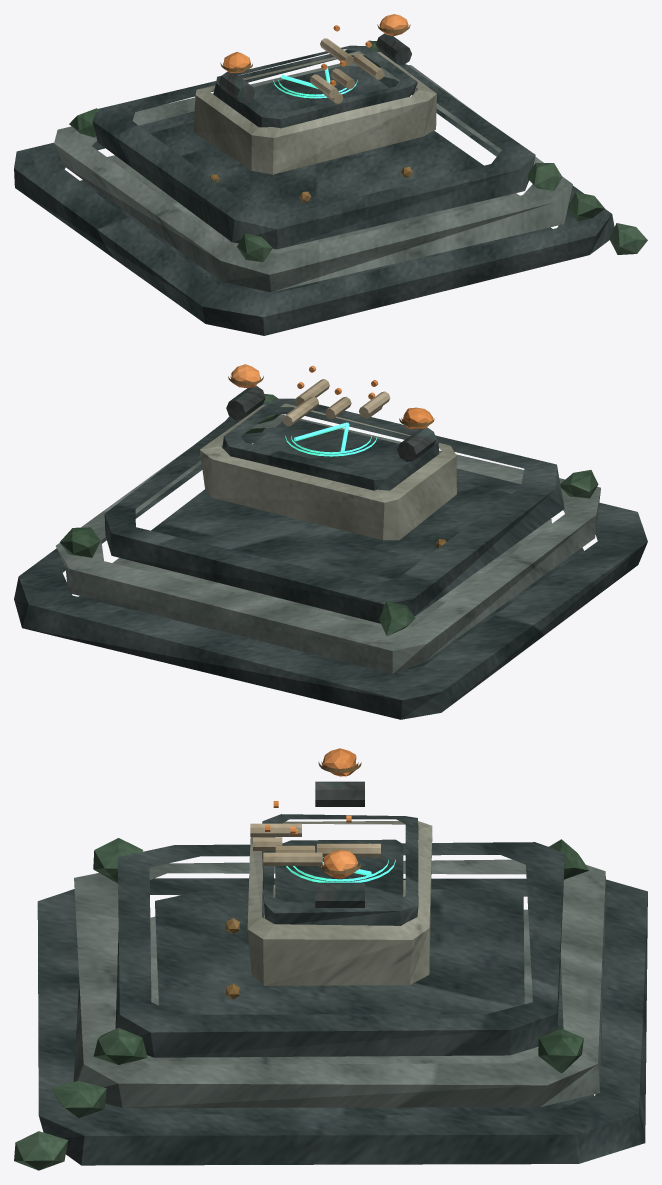
The model's file is 0469_altar_19.glb.
The picture shows the model from 3 angles, top to bottom: view 1: azimuth 30°, elevation 25°; view 2: azimuth 150°, elevation 25°; view 3: azimuth 270°, elevation 25°; orthographic projection. The views are drawn at different scales.
Parts seen in each view (by area): view 1: stone_dark, stone, stone_light, moss, bone, iron, amber, glow, brass; view 2: stone_dark, stone, stone_light, moss, iron, bone, amber, glow; view 3: stone_dark, stone, stone_light, moss, bone, iron, amber, brass, glow.
Boxes of the visible parts, box(x1,y1,x2,y2) form: stone_dark: box(14, 45, 614, 335); stone: box(54, 61, 572, 292); stone_light: box(193, 51, 436, 174); moss: box(69, 40, 647, 261); bone: box(310, 38, 384, 103); iron: box(219, 33, 411, 103); amber: box(222, 14, 408, 86); glow: box(273, 64, 357, 98); brass: box(210, 24, 412, 202); stone_dark: box(14, 398, 647, 719); stone: box(56, 414, 600, 673); stone_light: box(200, 403, 456, 540); moss: box(60, 394, 598, 635); iron: box(226, 385, 436, 461); bone: box(282, 379, 390, 426); amber: box(231, 364, 433, 428); glow: box(285, 422, 377, 456); stone_dark: box(37, 814, 647, 1165); stone: box(73, 859, 605, 1107); stone_light: box(247, 821, 432, 985); moss: box(14, 838, 589, 1170); bone: box(250, 823, 380, 865); iron: box(315, 781, 364, 907); amber: box(265, 748, 357, 879); brass: box(226, 761, 361, 999); glow: box(286, 843, 395, 882).
Size of the model in its own units: 3.06 by 1.29 by 3.08.
9 materials, 9 textured.
